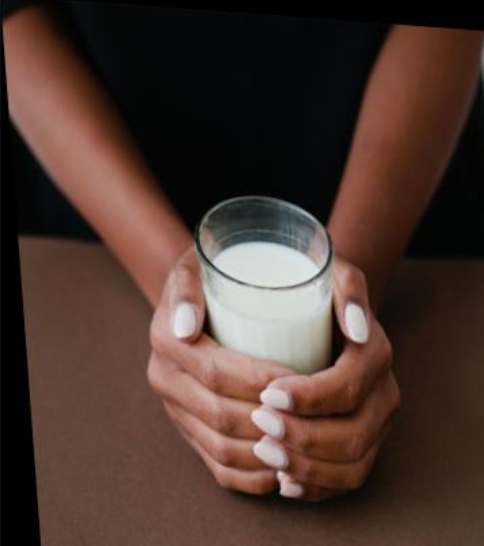produk_susu: (208, 199, 321, 343)
